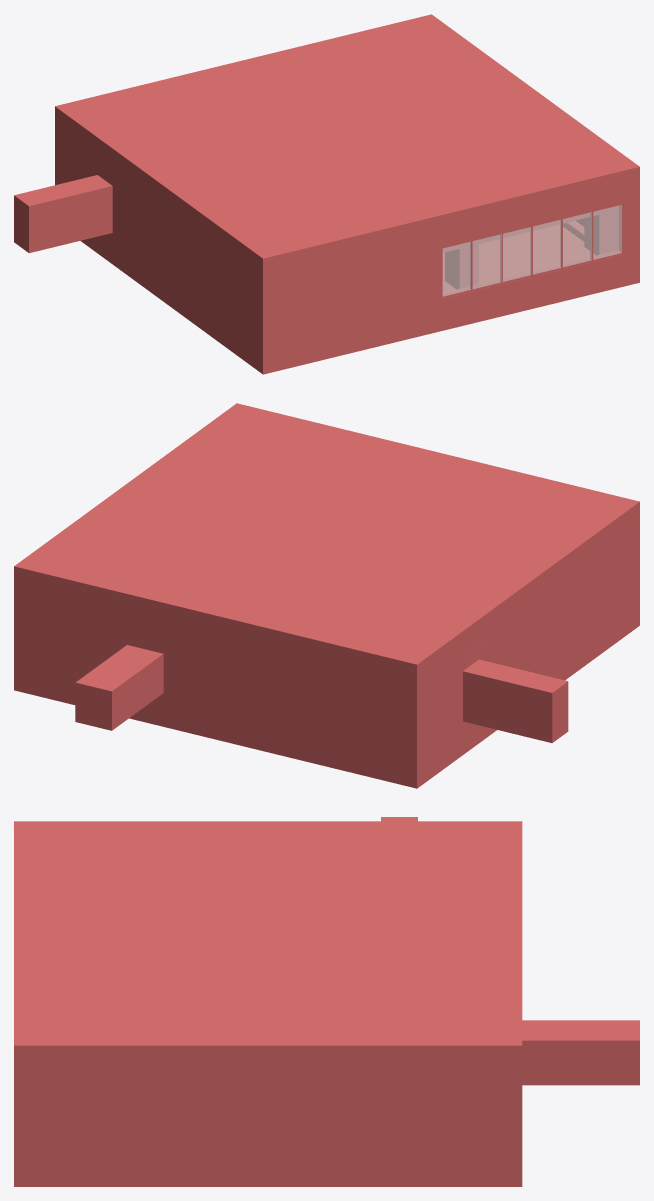
Rendered from Office.fbx.
3 renders of one model, top to bottom at view 1: azimuth 30°, elevation 25°; view 2: azimuth 150°, elevation 25°; view 3: azimuth 270°, elevation 25°, orthographic. The views are drawn at different scales.
Visible parts, largest first — view 1: Shell, Glasses_Clear_B, Floor_C, Wall_C, Frames; view 2: Shell; view 3: Shell.
Boxes of the visible parts, x1=… form: Shell: x1=14, y1=14, x2=639, y2=374; Glasses_Clear_B: x1=442, y1=205, x2=621, y2=296; Floor_C: x1=443, y1=224, x2=595, y2=292; Wall_C: x1=443, y1=205, x2=619, y2=288; Frames: x1=441, y1=203, x2=623, y2=298; Shell: x1=14, y1=403, x2=639, y2=788; Shell: x1=14, y1=817, x2=639, y2=1186.
Size of the model in its own units: 2754 by 663 by 2659.
